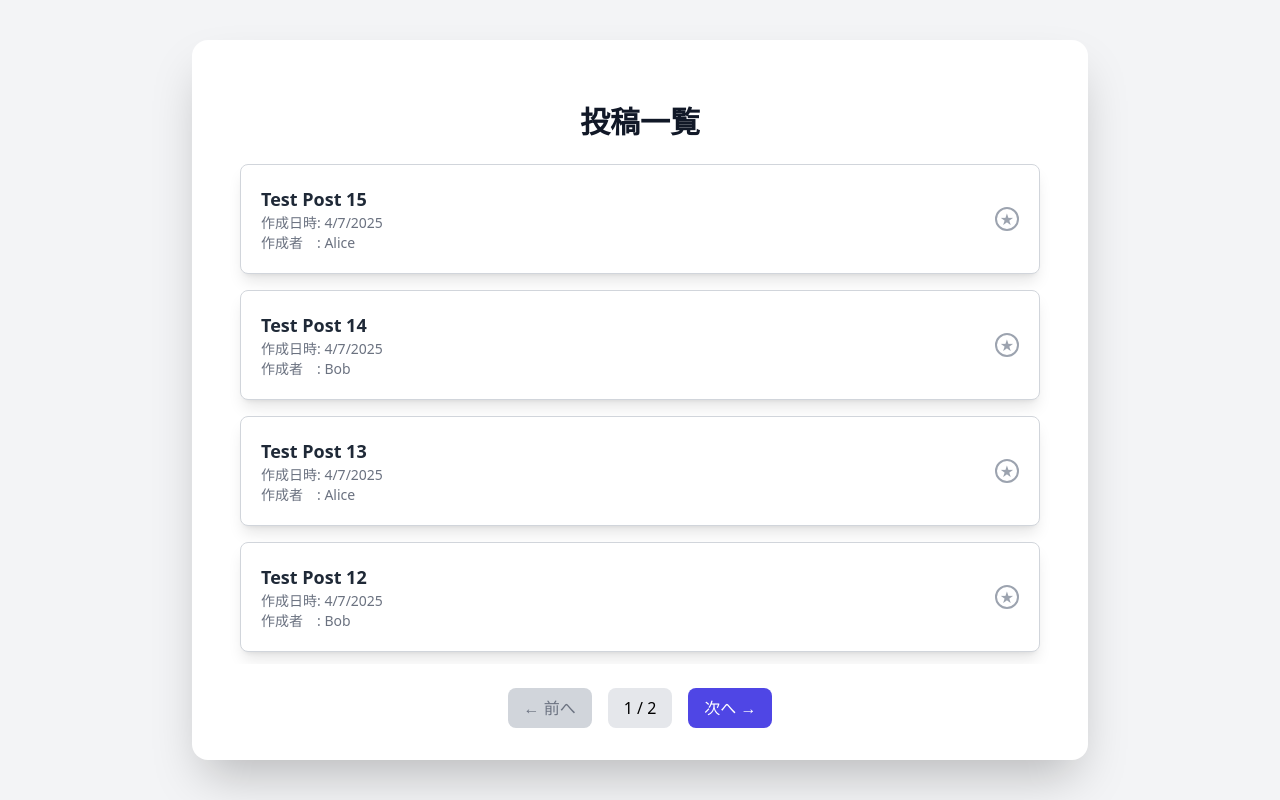
Homeコンポーネント › ページネーション
Expected: the text "1 / 2" is shown, x1=608 y1=688 x2=672 y2=728
What coordinates should you click on to do the following:
click the button "次へ →"
I would click on:
 (730, 708)
Its box is x1=688 y1=688 x2=772 y2=728.
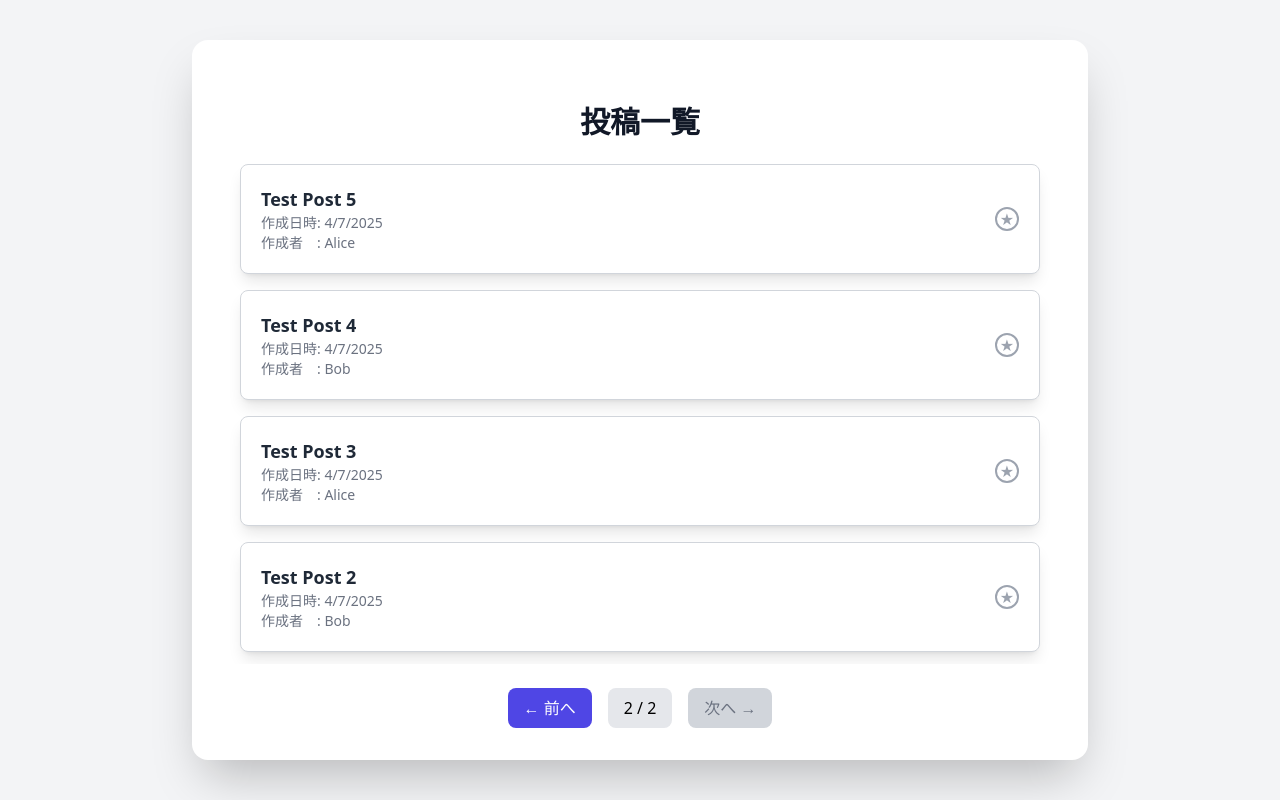
Expected: the text "2 / 2" is shown, x1=608 y1=688 x2=672 y2=728
